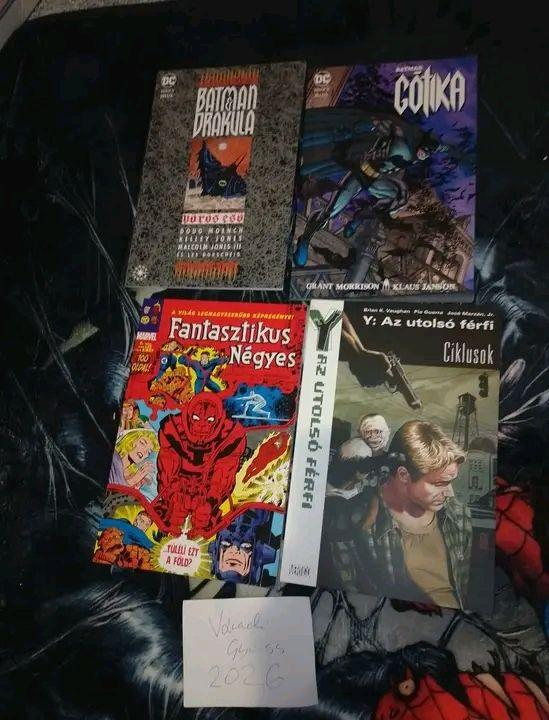comic: (279, 288, 522, 611), (92, 282, 312, 587), (124, 40, 318, 310), (291, 56, 477, 299)
